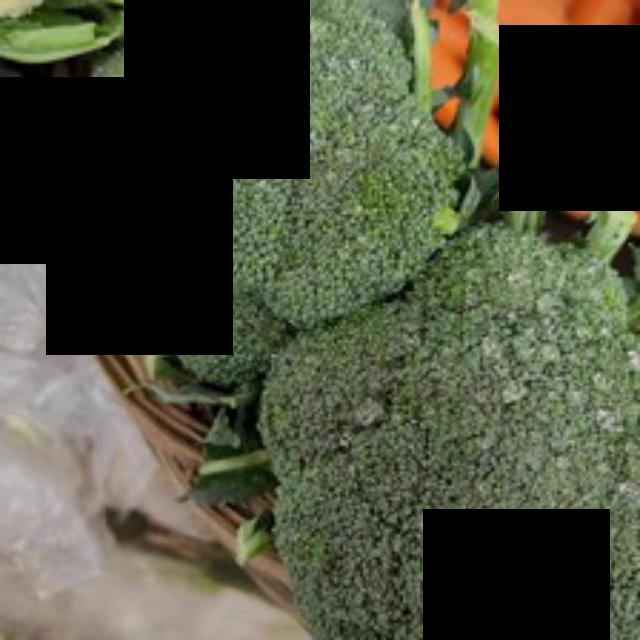broccoli: (41, 0, 486, 412)
